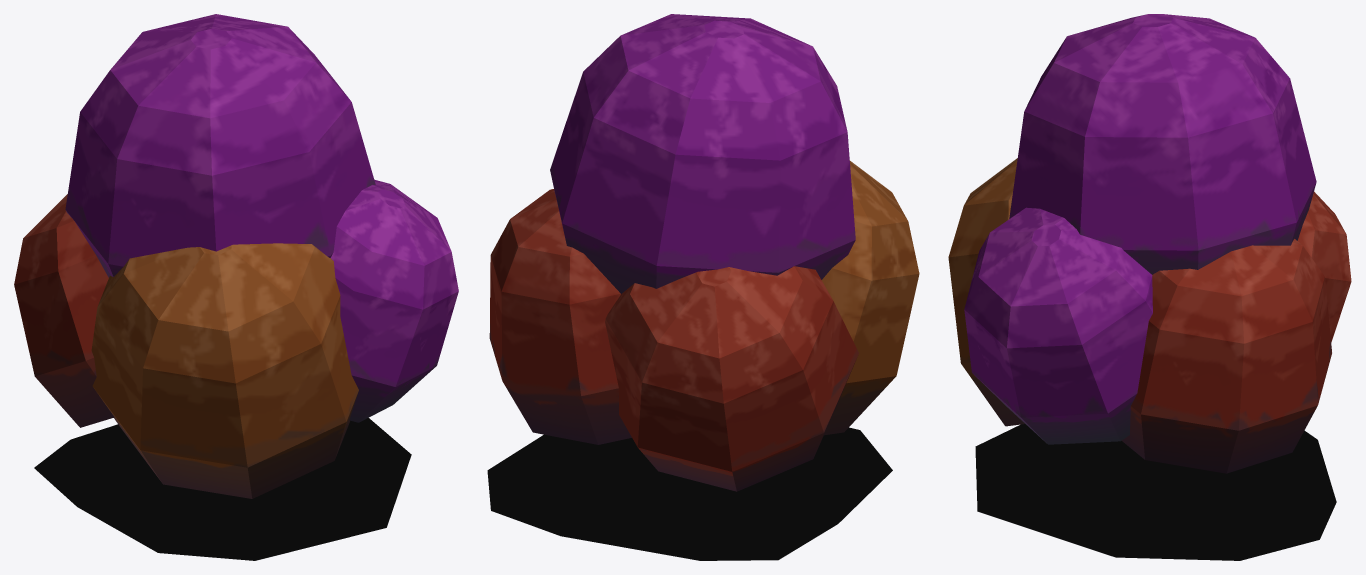
File: Tree_008.fbx
The picture shows the model from 3 angles, left to right: view 1: azimuth 30°, elevation 25°; view 2: azimuth 150°, elevation 25°; view 3: azimuth 270°, elevation 25°; orthographic projection. The views are drawn at different scales.
Parts seen in each view (by area): view 1: Tree_003_02.001, Tree_003_01, Shadow, Tree_003_04, Tree_003_02; view 2: Tree_003_02.001, Tree_003_02, Shadow, Tree_003_03, Tree_003_01; view 3: Tree_003_02.001, Tree_003_03, Shadow, Tree_003_04, Tree_003_01, Tree_003_02.
Part boxes in pixels (x1=…): Tree_003_02.001: x1=65, y1=14, x2=375, y2=277; Tree_003_01: x1=91, y1=243, x2=358, y2=498; Shadow: x1=34, y1=418, x2=411, y2=560; Tree_003_04: x1=331, y1=179, x2=458, y2=422; Tree_003_02: x1=14, y1=194, x2=114, y2=427; Tree_003_02.001: x1=550, y1=14, x2=855, y2=293; Tree_003_02: x1=605, y1=266, x2=858, y2=491; Shadow: x1=487, y1=427, x2=892, y2=560; Tree_003_03: x1=489, y1=189, x2=631, y2=444; Tree_003_01: x1=821, y1=160, x2=919, y2=435; Tree_003_02.001: x1=1009, y1=14, x2=1316, y2=274; Tree_003_03: x1=1121, y1=239, x2=1331, y2=473; Shadow: x1=975, y1=424, x2=1336, y2=560; Tree_003_04: x1=964, y1=207, x2=1152, y2=444; Tree_003_01: x1=948, y1=158, x2=1024, y2=426; Tree_003_02: x1=1297, y1=191, x2=1351, y2=341.
Bounding box in the file's own units: 212 × 275 × 223.
